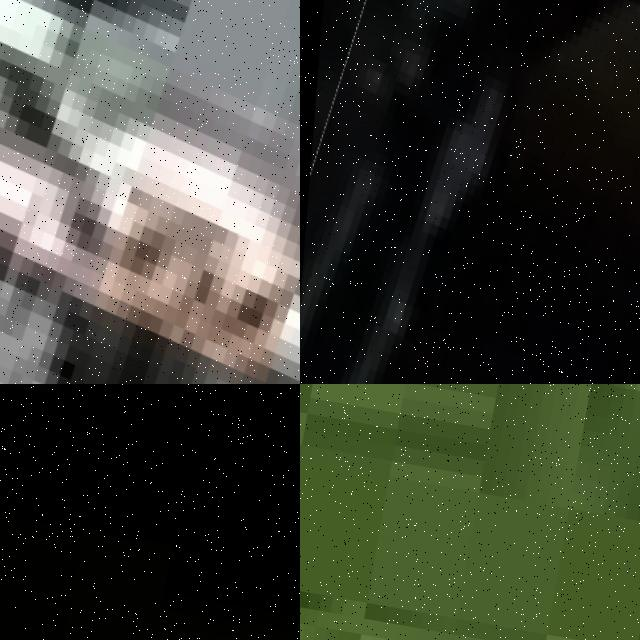drone: (300, 0, 640, 384), (0, 0, 300, 384)
